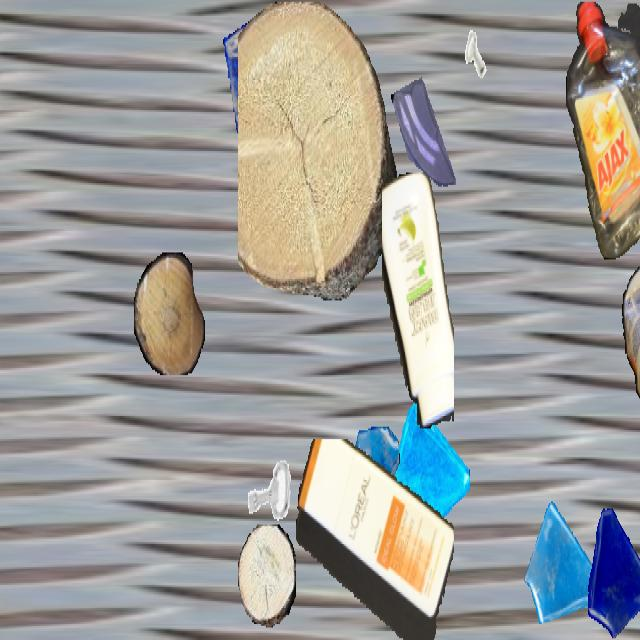glass: (376, 400, 470, 567), (223, 2, 315, 165), (524, 496, 604, 638), (390, 68, 460, 192), (579, 500, 640, 638), (340, 427, 400, 533)
metal: (295, 165, 353, 268), (242, 441, 298, 540), (457, 21, 495, 89)
plastic: (296, 439, 454, 638), (565, 2, 640, 258), (382, 172, 454, 428), (622, 242, 640, 402)
wood: (238, 2, 396, 300), (134, 252, 204, 374), (238, 524, 296, 628)
